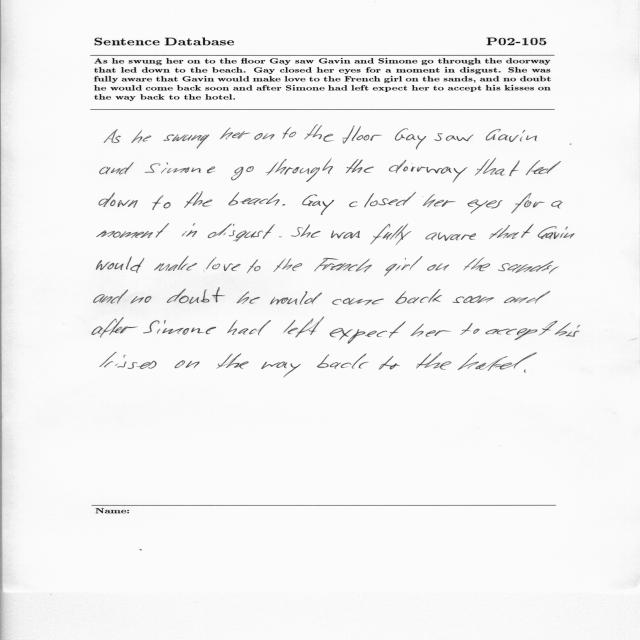word: (389, 160, 467, 183), (330, 321, 406, 344), (265, 158, 333, 182), (457, 352, 537, 371), (486, 321, 558, 340), (208, 223, 275, 242), (143, 320, 216, 335), (97, 224, 169, 238), (349, 192, 416, 207), (167, 287, 225, 304), (100, 352, 156, 369), (92, 317, 138, 337), (370, 224, 412, 245), (314, 258, 372, 273), (284, 317, 325, 337), (97, 256, 145, 273), (475, 158, 520, 176), (384, 256, 423, 276), (317, 354, 369, 369), (145, 163, 215, 174), (343, 125, 383, 144), (270, 291, 322, 305), (229, 192, 280, 206), (395, 289, 442, 304), (164, 134, 210, 149), (395, 128, 426, 150), (511, 193, 545, 213), (261, 361, 301, 378), (489, 224, 534, 239), (302, 194, 334, 215), (486, 129, 537, 142), (498, 261, 553, 273), (227, 320, 271, 335), (154, 256, 197, 271), (416, 352, 451, 370), (504, 291, 550, 304), (99, 193, 137, 208), (410, 324, 451, 337), (216, 353, 249, 369), (304, 125, 335, 142), (526, 160, 561, 175), (94, 289, 128, 304), (468, 200, 503, 214), (206, 257, 241, 271), (538, 226, 574, 239), (425, 232, 476, 241), (184, 192, 212, 208), (423, 194, 456, 207), (291, 224, 321, 238), (100, 163, 134, 175), (274, 258, 303, 272), (346, 159, 374, 173), (463, 257, 490, 271), (220, 128, 251, 140), (332, 298, 384, 305), (555, 323, 580, 337), (231, 166, 254, 181), (452, 295, 494, 303), (434, 133, 474, 141), (236, 292, 260, 305), (379, 356, 400, 370), (152, 195, 171, 210), (331, 230, 360, 239), (131, 130, 151, 143), (460, 323, 480, 335), (104, 129, 121, 143), (175, 360, 200, 368), (182, 224, 197, 237), (247, 259, 260, 273), (427, 263, 449, 271), (282, 127, 296, 139), (131, 296, 152, 304), (255, 133, 275, 140), (551, 201, 563, 209), (549, 266, 559, 274), (524, 369, 526, 373), (282, 204, 285, 206), (279, 237, 282, 238)
